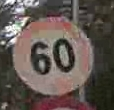limite 60: (8, 13, 96, 98)
